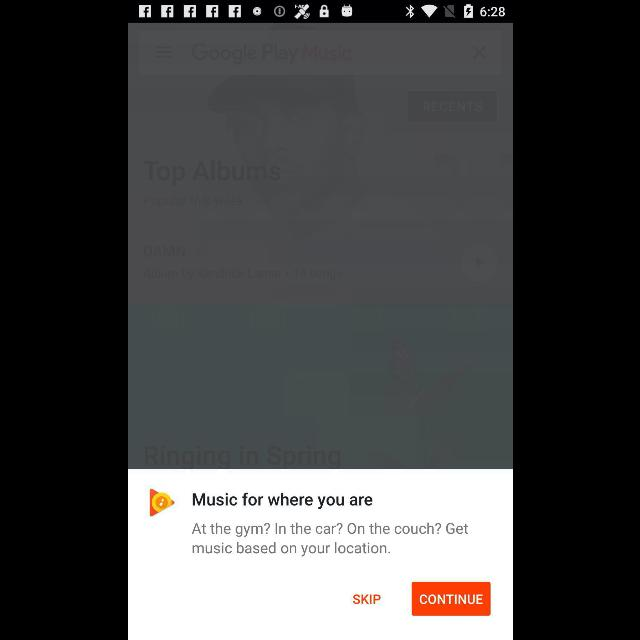image: (150, 488, 174, 516)
panel: (128, 468, 512, 640)
text: (190, 522, 468, 558), (192, 492, 372, 510), (352, 594, 380, 604)
textbutton: (410, 582, 490, 616)
uppertaskbar: (128, 1, 512, 23)
